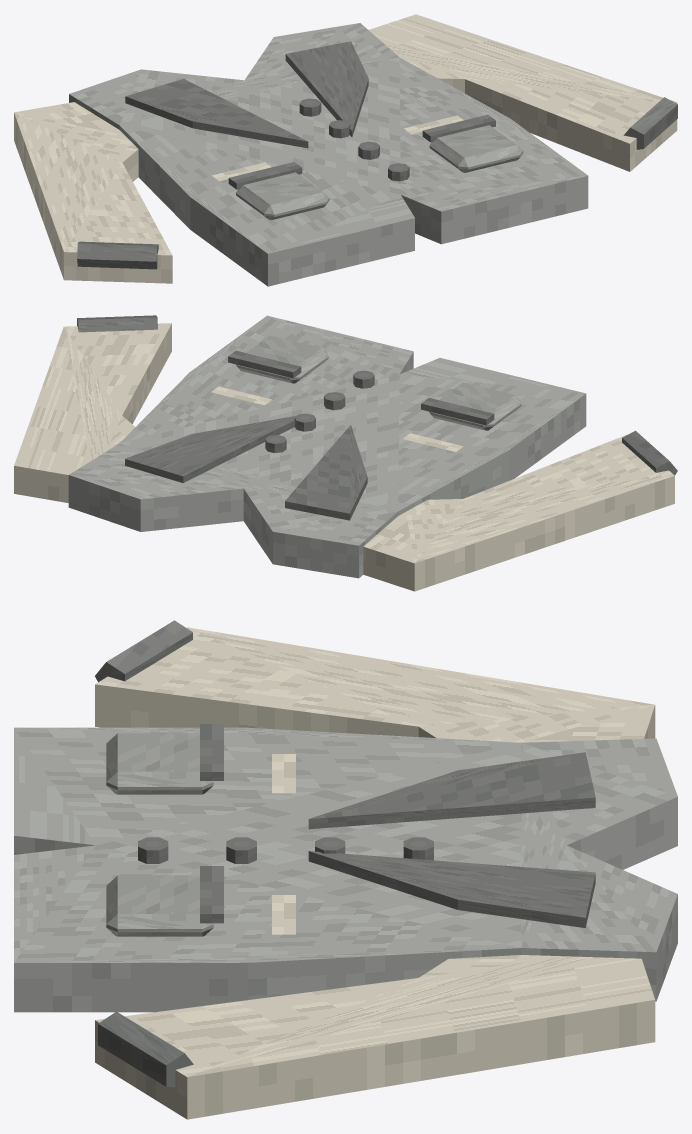
File: jacket_varsity.glb
3 renders of one model, top to bottom at view 1: azimuth 30°, elevation 25°; view 2: azimuth 150°, elevation 25°; view 3: azimuth 270°, elevation 25°, orthographic. The views are drawn at different scales.
Parts seen in each view (by area): view 1: block_coat body, block_sleeve (×2), block_lapel (×2), block_patch pocket (×2), block_cuff 0 (×2), block_pocket welt (×2); view 2: block_coat body, block_sleeve (×2), block_lapel (×2), block_patch pocket (×2), block_cuff 0 (×2), block_pocket welt (×2), block_rib knit pocket welt (×2); view 3: block_coat body, block_sleeve (×2), block_lapel (×2), block_patch pocket (×2), block_cuff 0 (×2), block_pocket welt (×2), block_rib knit pocket welt (×2), block_button (×2).
Part boxes in pixels (x1,y1,x2,y2): block_coat body: (69, 23, 588, 286); block_sleeve (×2): (14, 14, 677, 283); block_lapel (×2): (125, 41, 368, 148); block_patch pocket (×2): (236, 125, 523, 220); block_cuff 0 (×2): (77, 97, 677, 269); block_pocket welt (×2): (228, 114, 495, 189); block_coat body: (68, 315, 586, 578); block_sleeve (×2): (14, 323, 674, 591); block_lapel (×2): (125, 415, 367, 520); block_patch pocket (×2): (236, 335, 521, 430); block_cuff 0 (×2): (77, 315, 677, 475); block_pocket welt (×2): (228, 350, 494, 425); block_rib knit pocket welt (×2): (211, 386, 463, 451); block_coat body: (14, 727, 677, 1012); block_sleeve (×2): (95, 627, 655, 1119); block_lapel (×2): (308, 752, 595, 927); block_patch pocket (×2): (106, 733, 213, 936); block_cuff 0 (×2): (95, 620, 193, 1087); block_pocket welt (×2): (200, 724, 223, 923); block_rib knit pocket welt (×2): (272, 754, 295, 934); block_button (×2): (138, 837, 256, 863).
Bounding box in the file's own units: 0.5437 × 0.0426 × 0.339.
Materials: 1 (1 with a texture image).
